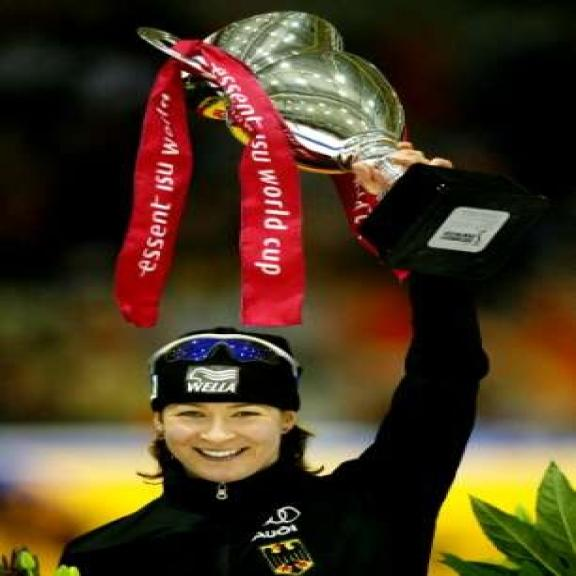face: (143, 393, 302, 484)
